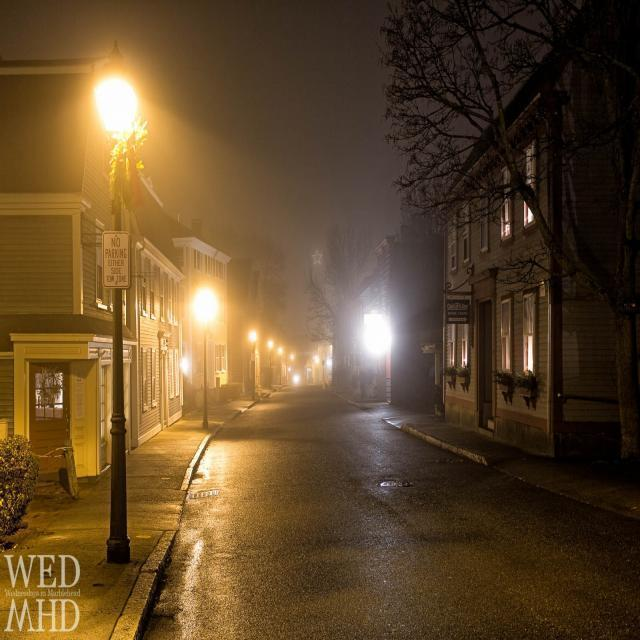Manhole: (376, 474, 414, 491), (185, 488, 222, 500), (434, 455, 465, 464)
Pothole: (135, 608, 178, 640), (187, 470, 207, 486)
